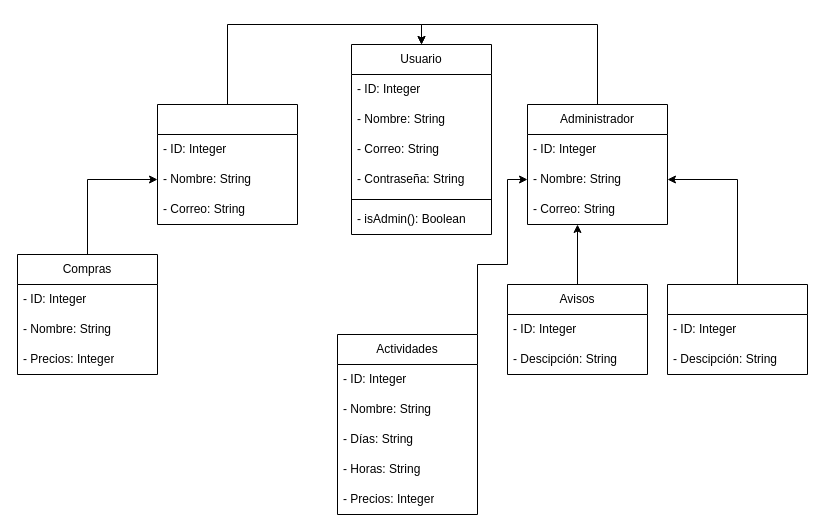
This 825x532 diagram has some shape labels left out. Here are the shapes that lost their labels. From the top down, the box of each, then its label:
(156, 104, 298, 224): Cliente
(666, 284, 808, 374): Ofertas
